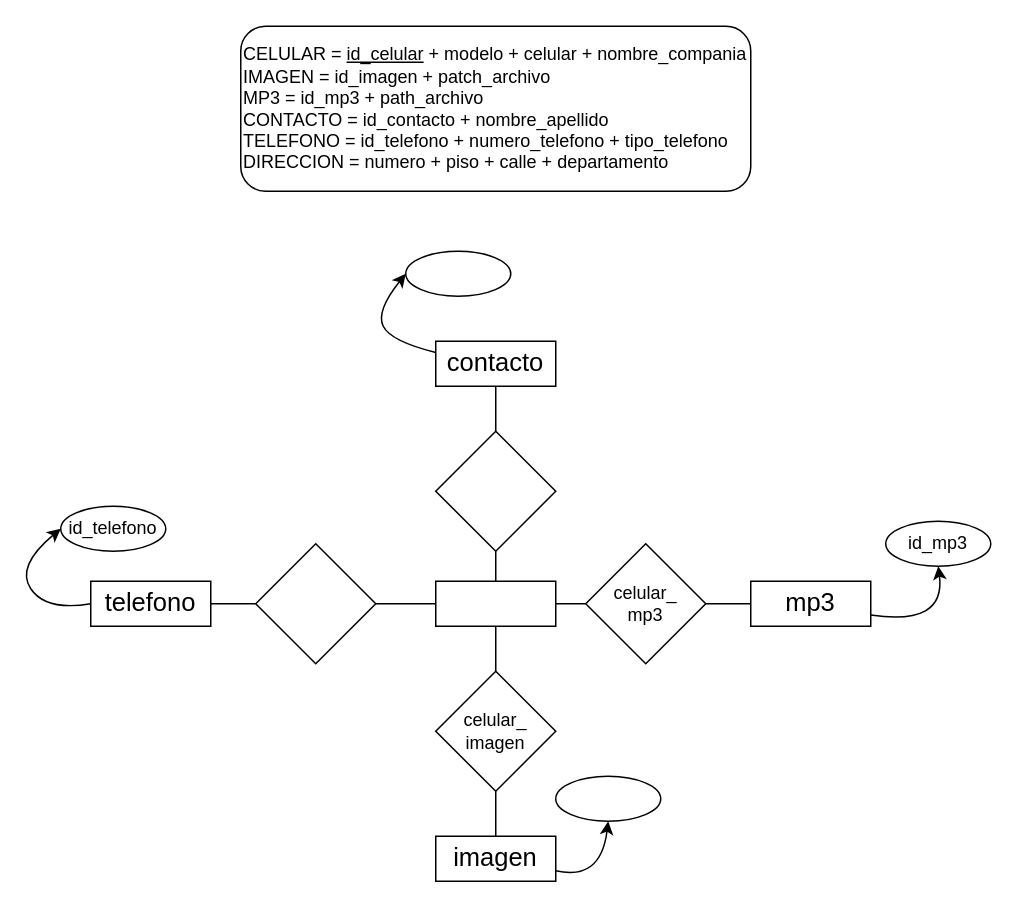
This 1017x908 diagram has some shape labels left out. Each missing label, with the centre of its shape:
"celular" goes at point (495, 603).
"celular_ contacto" goes at point (495, 490).
"celular_ telefono" goes at point (315, 603).
"id_contacto" goes at point (457, 273).
"id_imagen" goes at point (607, 798).
